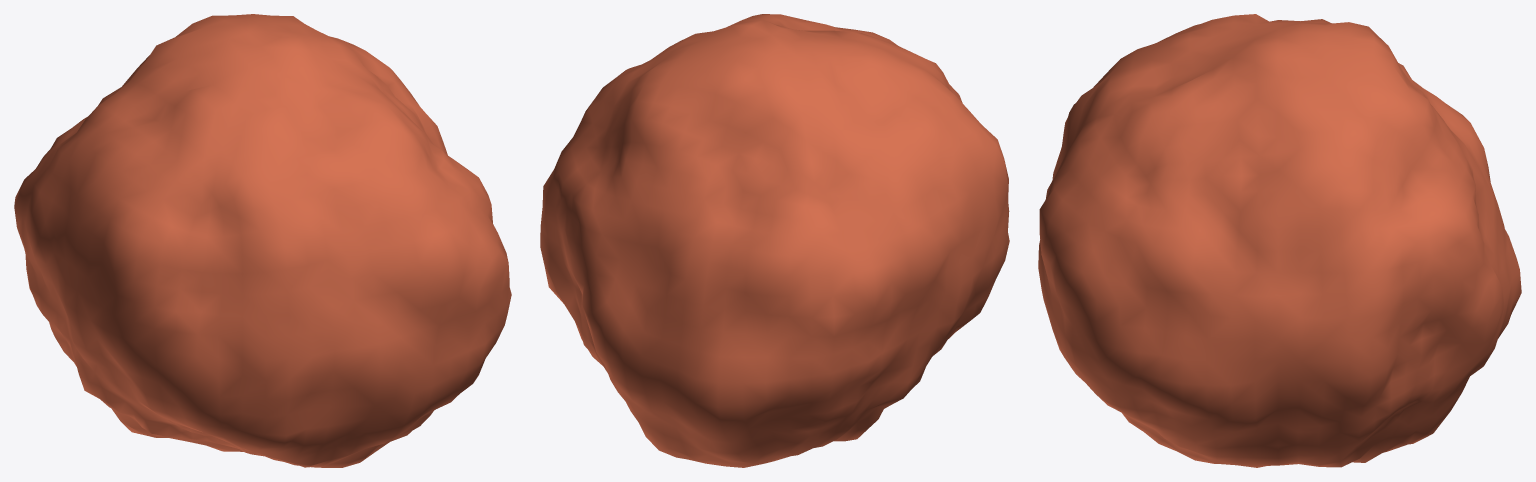
Rendered from meatball_01.dae.
3 views of the same model, side by side, from view 1: azimuth 30°, elevation 25°; view 2: azimuth 150°, elevation 25°; view 3: azimuth 270°, elevation 25° (orthographic). The views are drawn at different scales.
Parts seen in each view (by area): view 1: Cube; view 2: Cube; view 3: Cube.
Boxes of the visible parts, x1=… form: Cube: x1=14, y1=14, x2=511, y2=467; Cube: x1=540, y1=14, x2=1009, y2=467; Cube: x1=1038, y1=14, x2=1521, y2=467.
Size of the model in its own units: 1.6 by 1.69 by 1.58.
